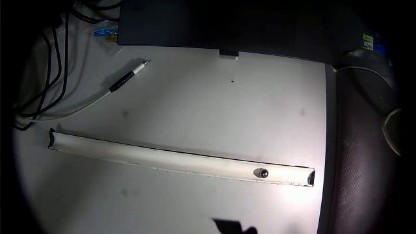gangzhu: (259, 166, 268, 178)
